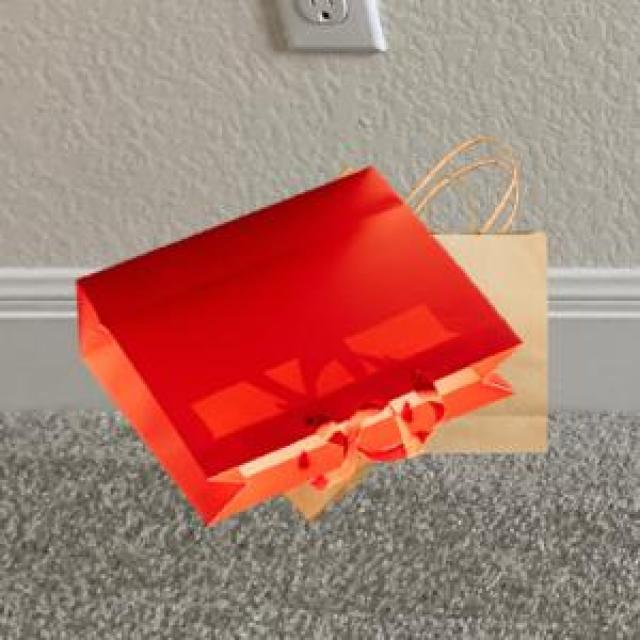paper: (73, 162, 518, 521), (280, 134, 514, 516), (378, 211, 542, 448)
